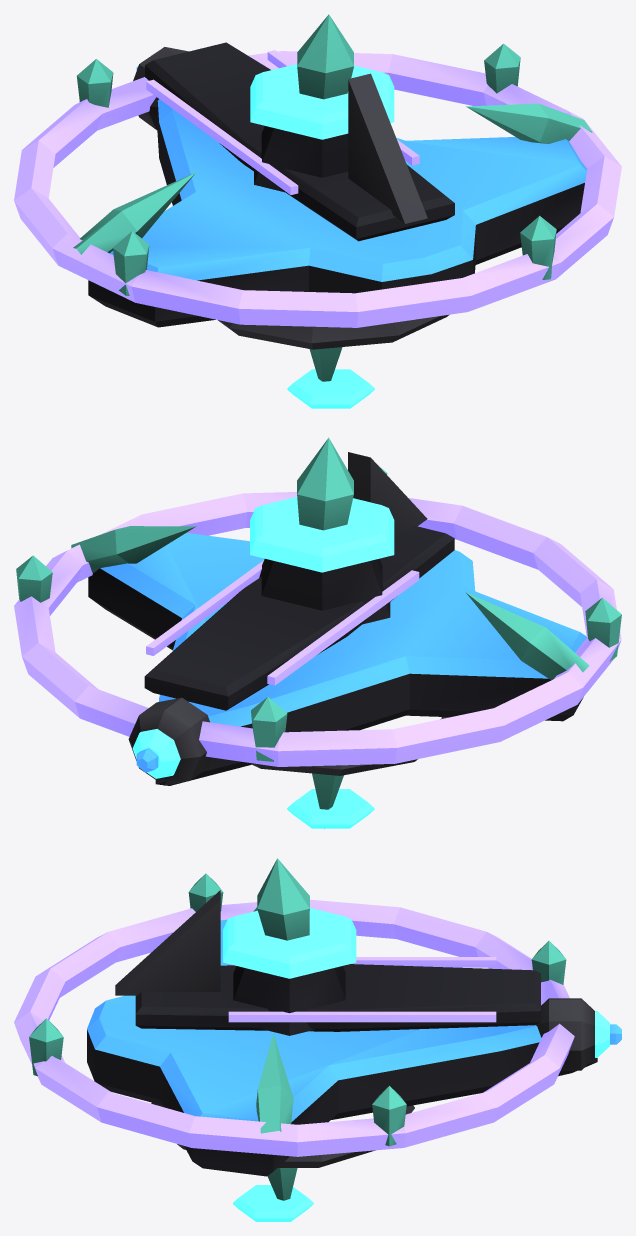
3 renders of one model, top to bottom at view 1: azimuth 30°, elevation 25°; view 2: azimuth 150°, elevation 25°; view 3: azimuth 270°, elevation 25°, orthographic. The views are drawn at different scales.
Visible parts, largest first — view 1: bobHull, spinRing, body; view 2: bobHull, spinRing, body; view 3: bobHull, spinRing, body.
Part boxes in pixels (bbox=[...]): bobHull: bbox=[73, 14, 592, 327]; spinRing: bbox=[14, 43, 621, 327]; body: bbox=[218, 314, 449, 408]; bobHull: bbox=[71, 437, 589, 785]; spinRing: bbox=[14, 456, 621, 766]; body: bbox=[252, 717, 448, 828]; bobHull: bbox=[87, 858, 621, 1176]; spinRing: bbox=[14, 873, 574, 1156]; body: bbox=[151, 1102, 414, 1221].
Size of the model in its own units: 1.4 by 0.98 by 1.5.
